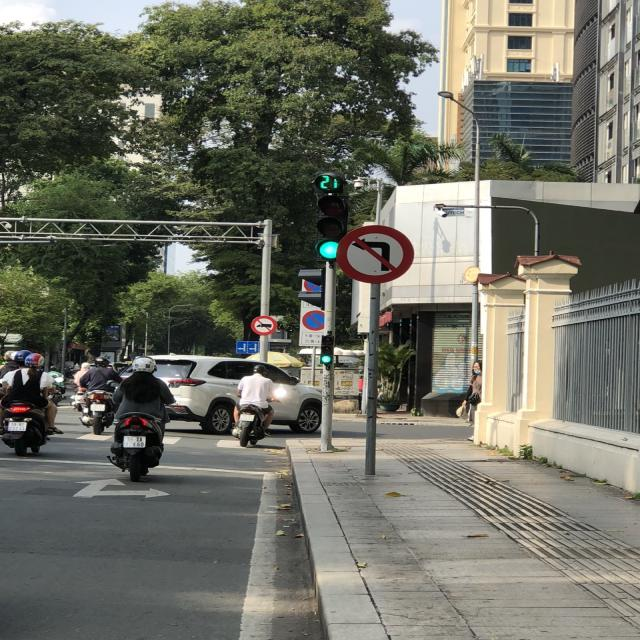Bien bao cam re trai: (318, 212, 432, 287)
Bien bao cam xe so-mi ro-mooc: (250, 314, 279, 337)
